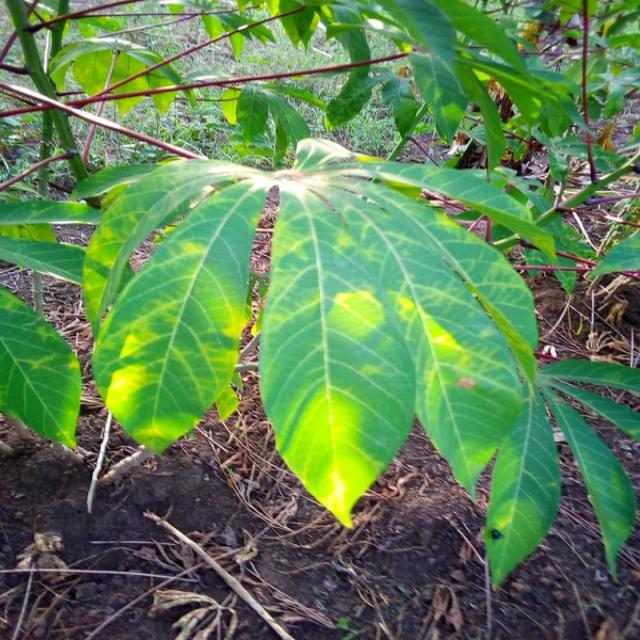cassava leaf: (258, 160, 539, 528), (90, 175, 266, 456), (482, 385, 562, 589), (0, 283, 82, 450)
